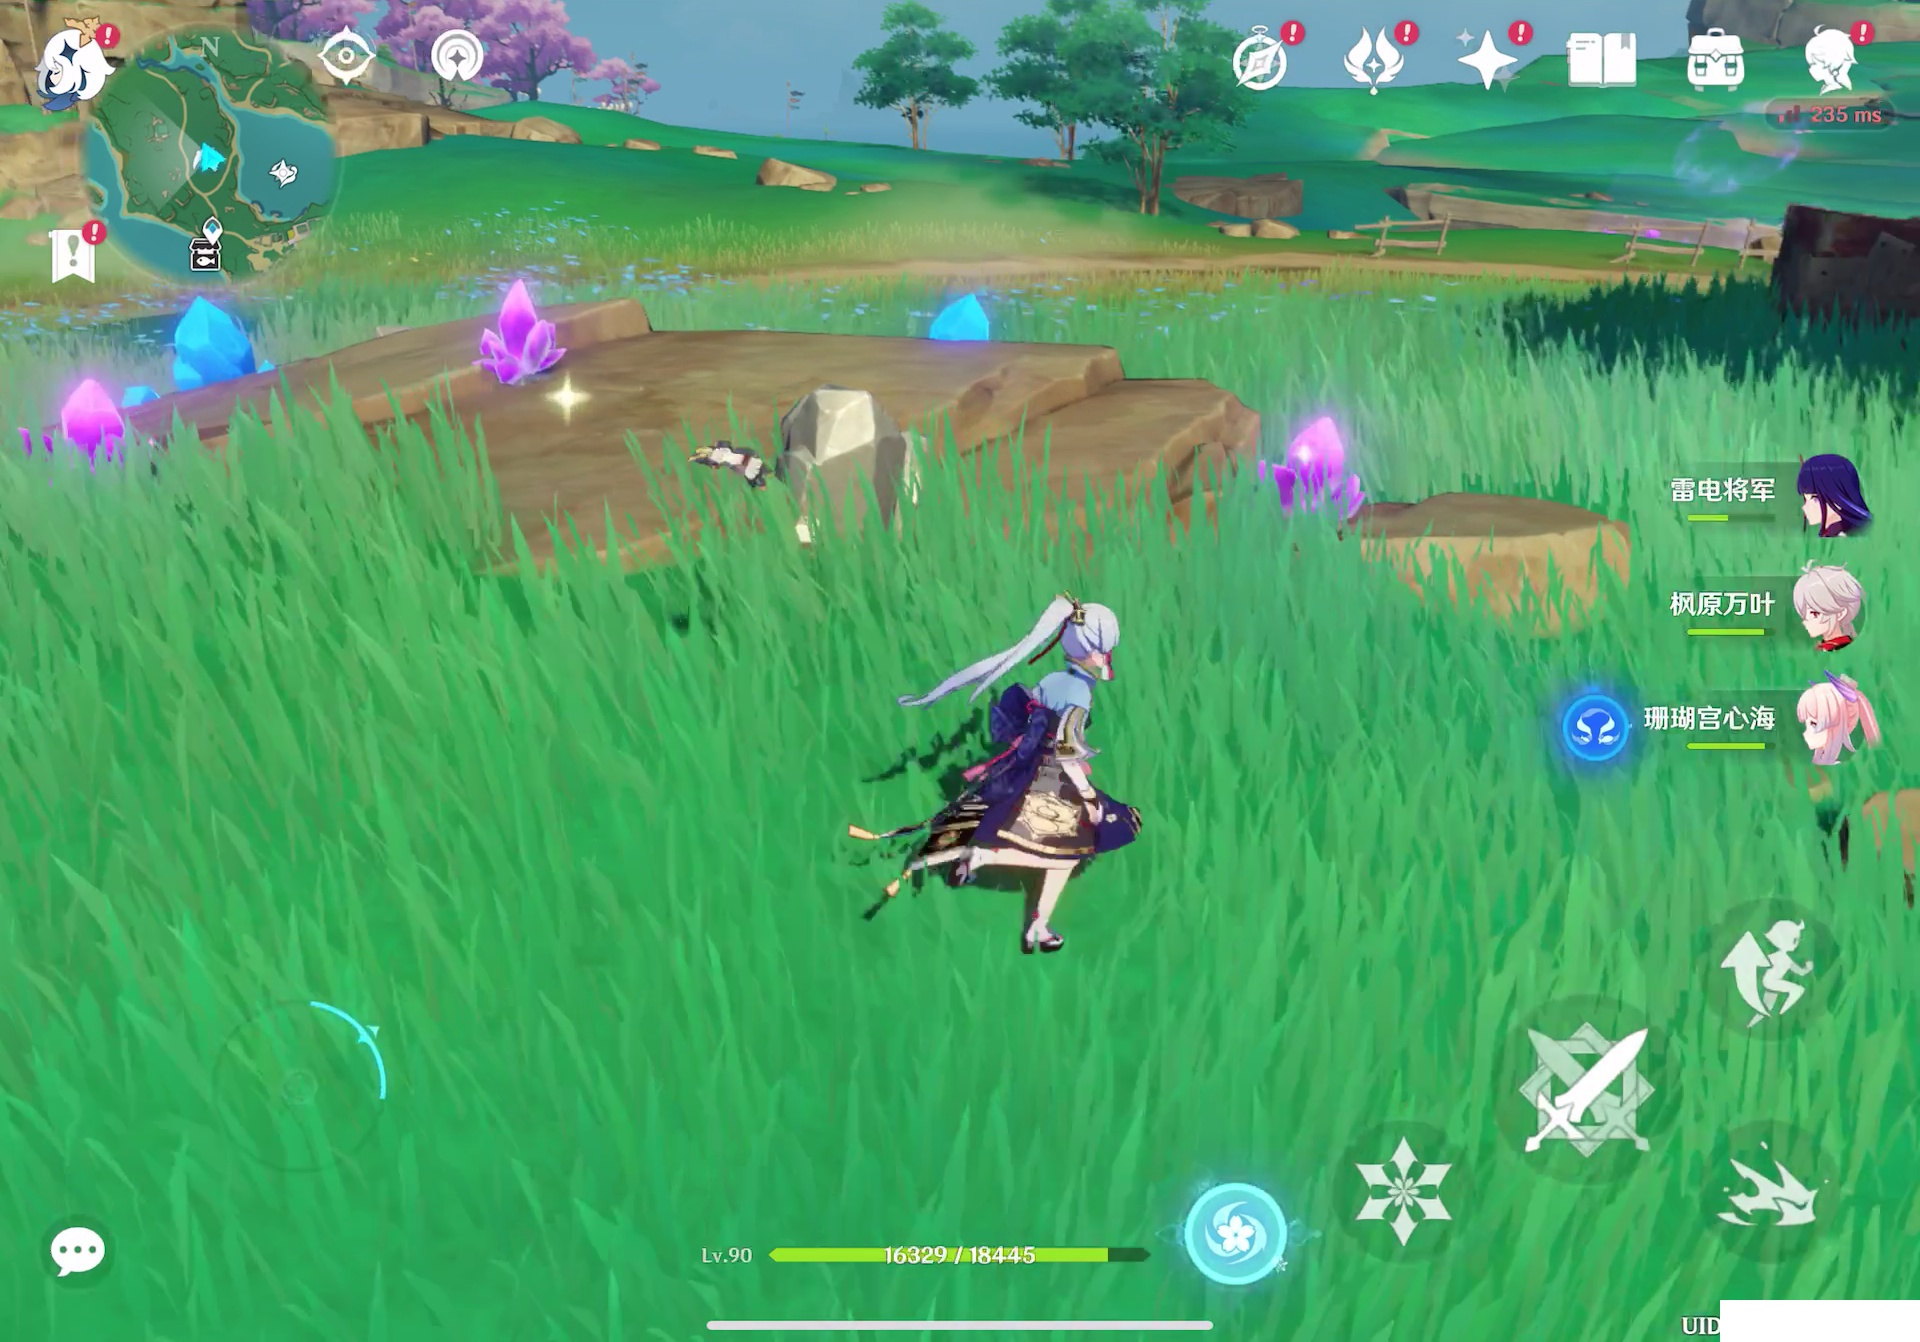白铁矿石: (746, 376, 961, 548)
神里绫龟: (909, 560, 1218, 1017)
紫矿石: (477, 276, 573, 384), (1284, 410, 1366, 532), (64, 379, 140, 449)
蓝矿石: (155, 298, 306, 407), (937, 290, 1002, 346)
